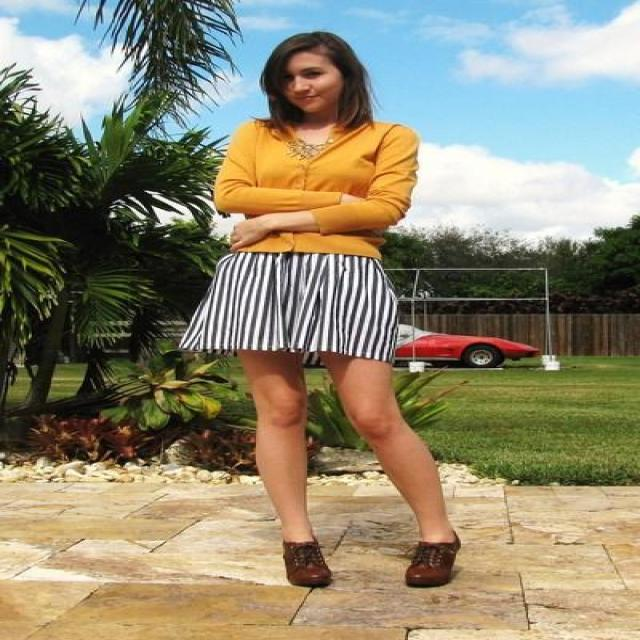shirt: (211, 119, 418, 258)
shoe: (283, 531, 459, 591)
skirt: (184, 230, 411, 372)
